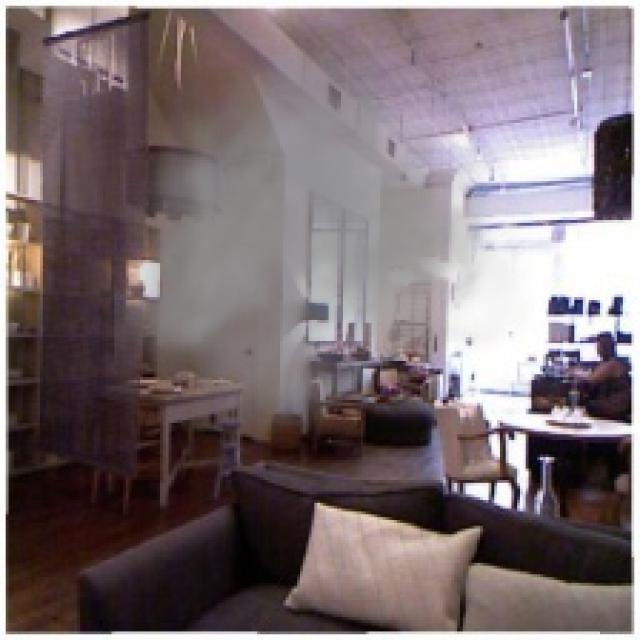Smoke: (115, 31, 534, 452)
